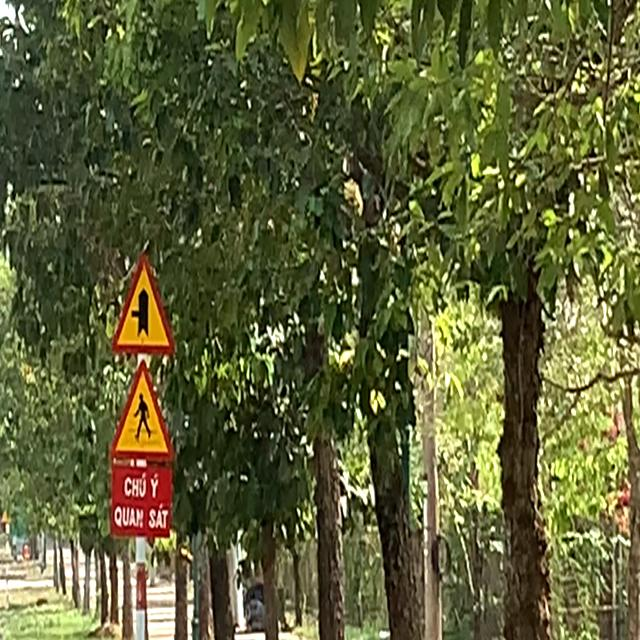W.207c: (109, 248, 177, 359)
W.224: (110, 354, 176, 468)
